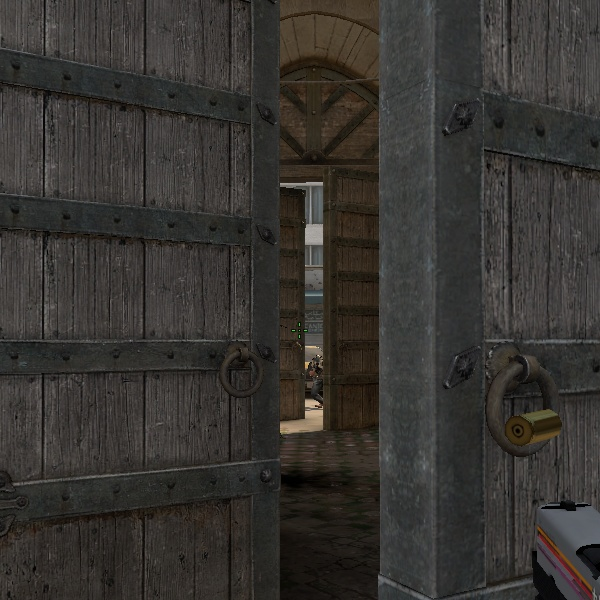t_body: (299, 352, 329, 407)
